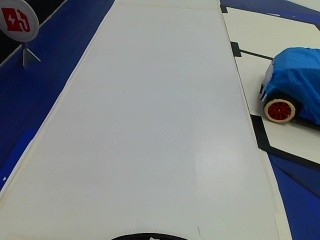battery: (0, 1, 40, 43)
car: (255, 43, 320, 130)
